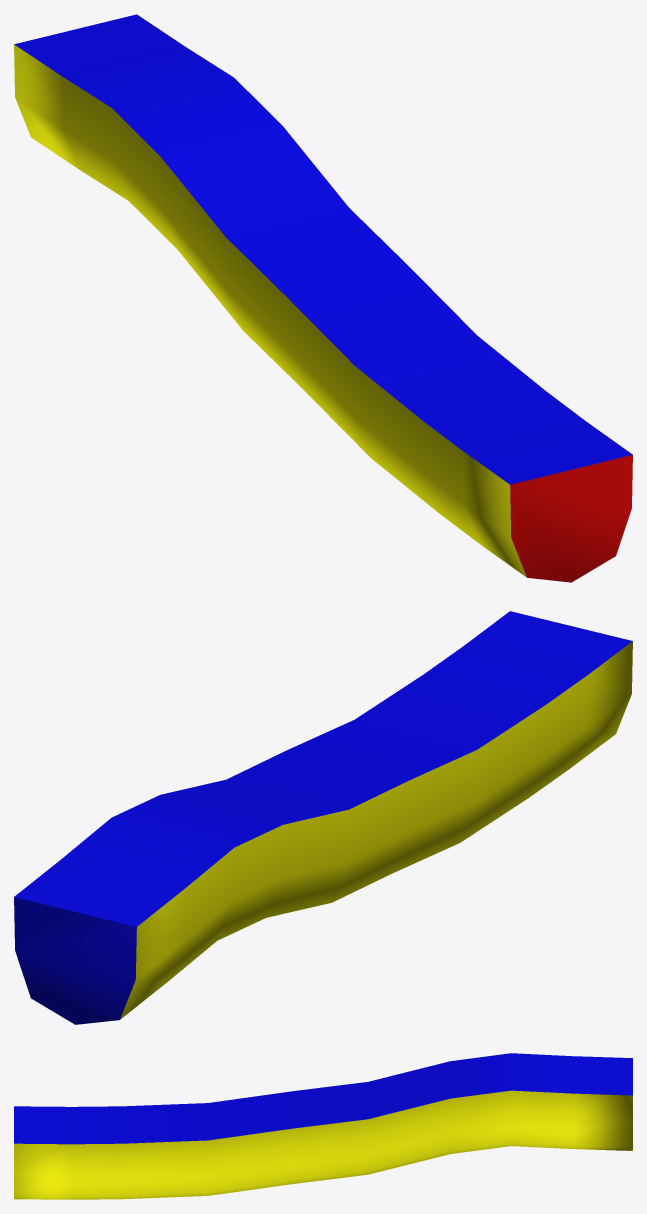
The picture shows the model from 3 angles, top to bottom: view 1: azimuth 30°, elevation 25°; view 2: azimuth 150°, elevation 25°; view 3: azimuth 270°, elevation 25°; orthographic projection. The views are drawn at different scales.
Parts seen in each view (by area): view 1: polySurface133; view 2: polySurface133; view 3: polySurface133.
Part boxes in pixels (x1,y1,x2,y2): polySurface133: (14,14,632,582); polySurface133: (14,611,632,1024); polySurface133: (14,1053,632,1199).
Size of the model in its own units: 23.58 by 36.49 by 165.
